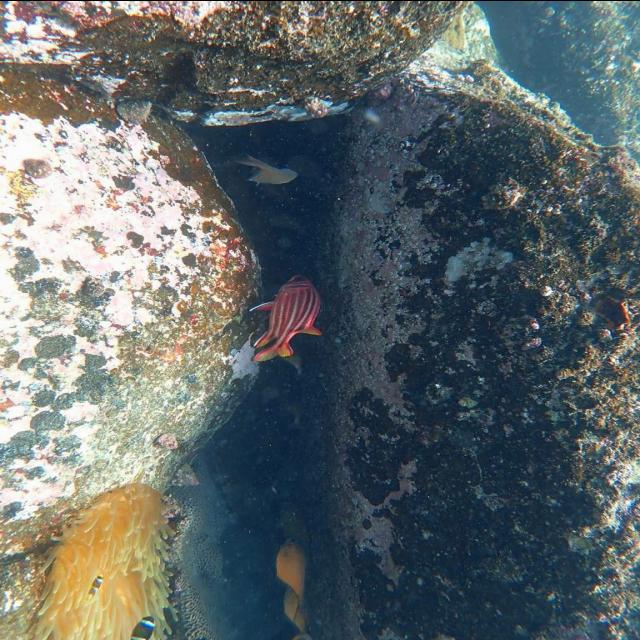Asker Baligi: (232, 263, 346, 385)
